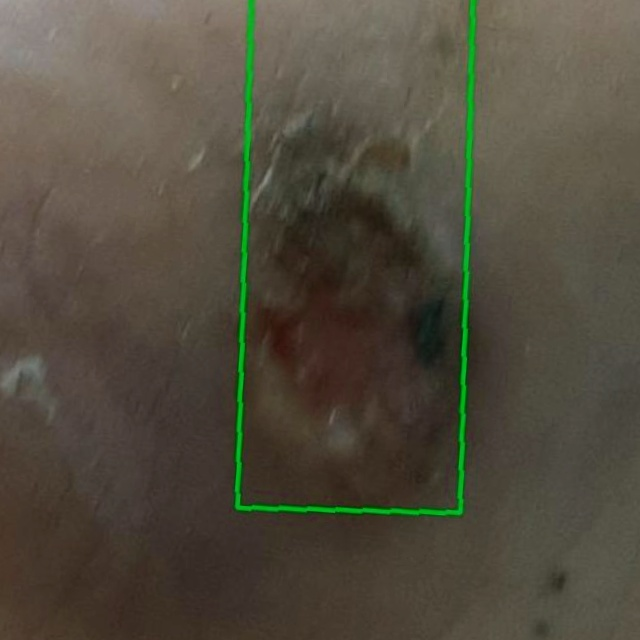Eczema: (236, 0, 473, 513)
